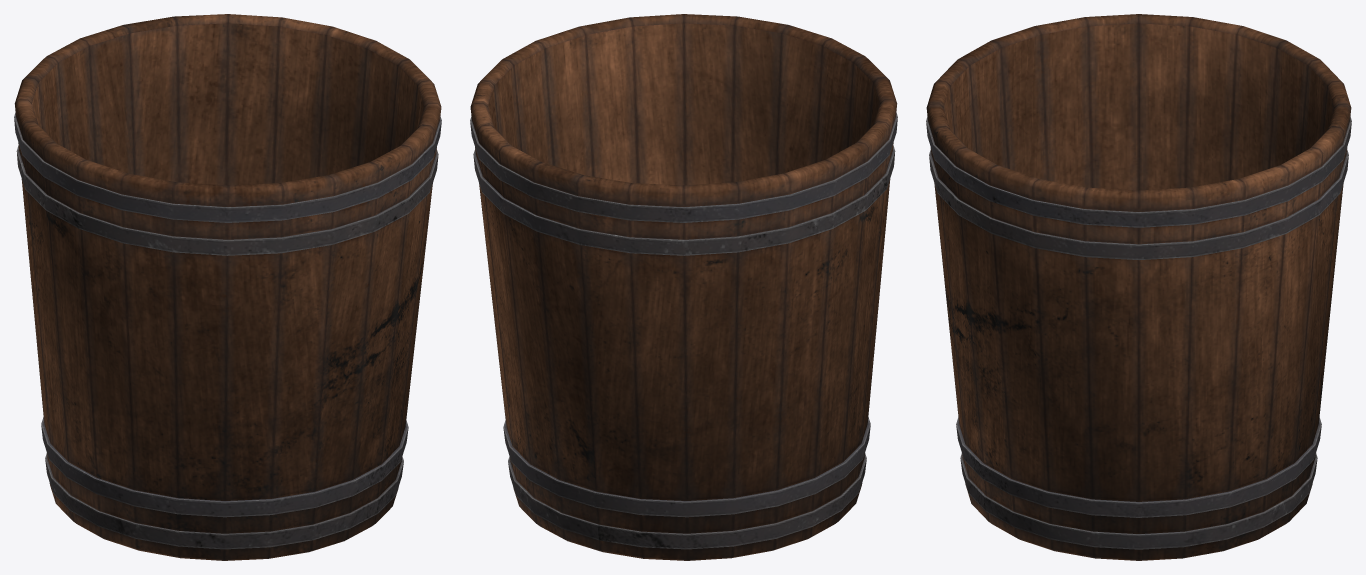
The model's file is old_wooden_bucket.glb.
The picture shows the model from 3 angles, left to right: view 1: azimuth 30°, elevation 25°; view 2: azimuth 150°, elevation 25°; view 3: azimuth 270°, elevation 25°; orthographic projection.
Parts seen in each view (by area): view 1: Bucket__0; view 2: Bucket__0; view 3: Bucket__0.
Part boxes in pixels (<box>): Bucket__0: <box>14,14,441,560</box>; Bucket__0: <box>470,14,897,560</box>; Bucket__0: <box>926,14,1351,560</box>.
Bounding box in the file's own units: 0.5004 × 0.5046 × 0.5004.
Materials: 1 (1 with a texture image).
